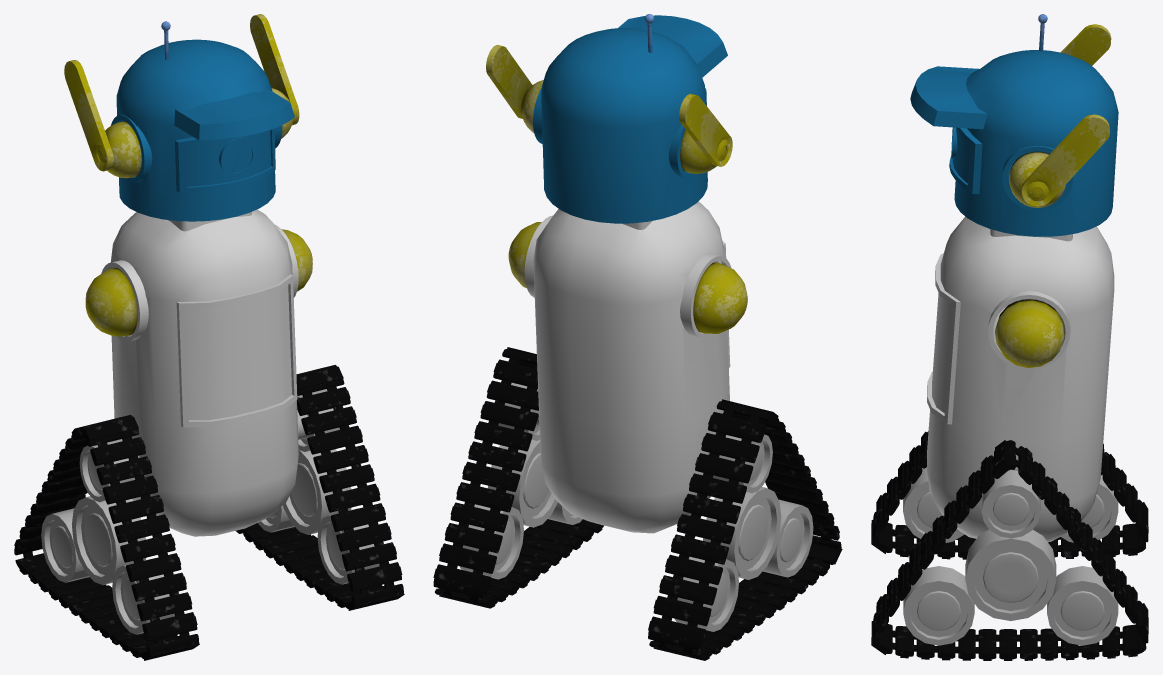
Rendered from Robot_V3.fbx.
3 renders of one model, left to right at view 1: azimuth 30°, elevation 25°; view 2: azimuth 150°, elevation 25°; view 3: azimuth 270°, elevation 25°, orthographic. The views are drawn at different scales.
Parts seen in each view (by area): view 1: Roundcube.001, tete, chenille.002, chenille.001, oreille gauche, roue droite.001, roue haut droite.001, Sphere, roue haut droite.002, roue droite.004, oreille droite, roue droite.002 (+1 smaller); view 2: Roundcube.001, tete, chenille.002, chenille.001, roue droite.001, roue haut droite.001, oreille gauche, Sphere, roue haut droite.002, oreille droite, roue droite.004, roue droite.002 (+1 smaller); view 3: Roundcube.001, tete, chenille.001, roue droite.004, chenille.002, roue haut droite.002, oreille droite, Sphere.001, roue droite.001, roue droite.003, oreille gauche.
Boxes of the visible parts, box(x1,y1,x2,y2) form: Roundcube.001: box(101, 209, 298, 536); tete: box(111, 39, 294, 221); chenille.002: box(14, 415, 199, 660); chenille.001: box(235, 365, 404, 610); oreille gauche: box(64, 60, 141, 178); roue droite.001: box(41, 508, 174, 634); roue haut droite.001: box(72, 496, 145, 584); Sphere: box(85, 268, 137, 336); roue haut droite.002: box(283, 449, 351, 534); roue droite.004: box(258, 505, 379, 584); oreille droite: box(250, 14, 299, 138); roue droite.002: box(79, 439, 139, 502); Roundcube.001: box(524, 201, 731, 533); tete: box(533, 15, 727, 223); chenille.002: box(648, 399, 842, 660); chenille.001: box(433, 347, 603, 608); roue droite.001: box(675, 499, 813, 631); roue haut droite.001: box(703, 487, 781, 579); oreille gauche: box(679, 93, 732, 173); Sphere: box(693, 262, 747, 333); roue haut droite.002: box(488, 440, 557, 527); oreille droite: box(486, 45, 543, 132); roue droite.004: box(459, 502, 582, 579); roue droite.002: box(708, 434, 772, 493); Roundcube.001: box(927, 216, 1114, 542); tete: box(910, 50, 1118, 236); chenille.001: box(871, 440, 1148, 660); roue droite.004: box(903, 566, 1118, 645); chenille.002: box(871, 431, 1148, 559); roue haut droite.002: box(965, 529, 1056, 620); oreille droite: box(1009, 114, 1109, 207); Sphere.001: box(995, 299, 1064, 367); roue droite.001: box(903, 467, 1118, 542); roue droite.003: box(981, 470, 1040, 538); oreille gauche: box(1060, 24, 1111, 65).
Bounding box in the file's own units: 62.25 × 132 × 58.18.
